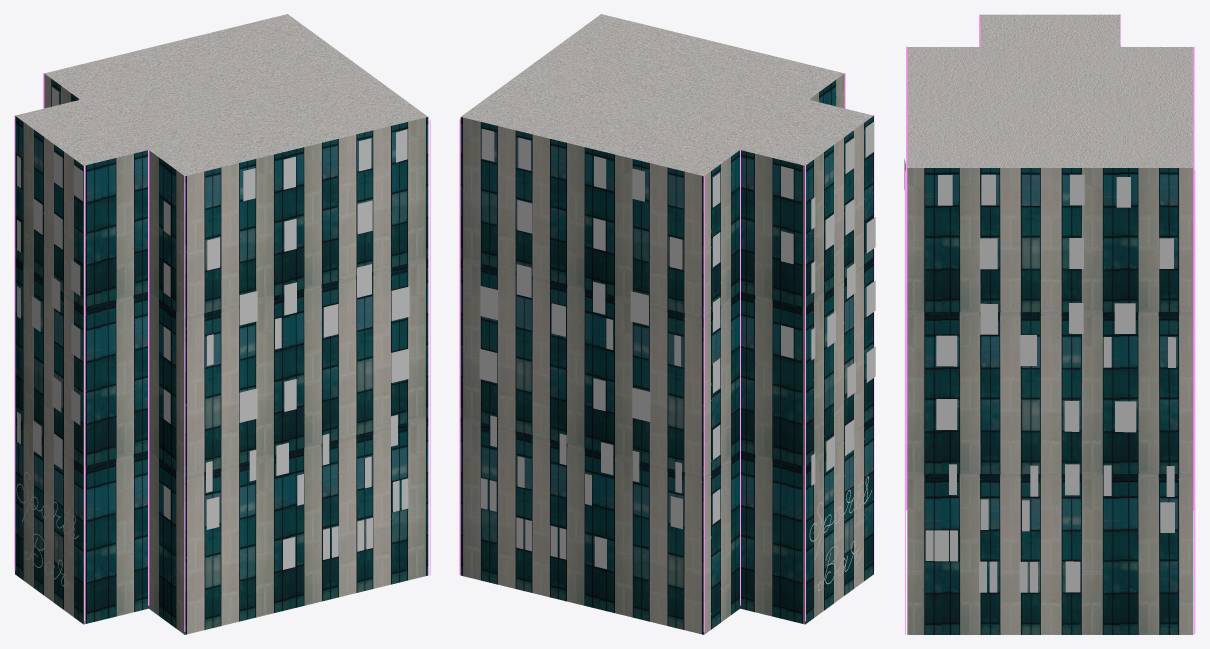
File: Building-4.fbx
3 views of the same model, side by side, from view 1: azimuth 30°, elevation 25°; view 2: azimuth 150°, elevation 25°; view 3: azimuth 270°, elevation 25° (orthographic).
Parts seen in each view (by area): view 1: building_011.001, Cylinder.004, Cylinder.007, Cylinder.009, Cylinder.010, Text.003, Plane.115, Plane.118, Plane.124; view 2: building_011.001, Cylinder.011, Cylinder.012, Text.003, Plane.092, Plane.086, Plane.084; view 3: building_011.001, Cylinder.009, Cylinder.011, Plane.147, Plane.150, Plane.148, Plane.156, Cylinder.012, Plane.145, Plane.157, Plane.146, Plane.168 (+12 smaller).
Boxes of the visible parts, x1=… form: building_011.001: x1=15, y1=14, x2=428, y2=634; Cylinder.004: x1=148, y1=150, x2=149, y2=605; Cylinder.007: x1=14, y1=115, x2=15, y2=570; Cylinder.009: x1=184, y1=176, x2=185, y2=631; Cylinder.010: x1=429, y1=119, x2=430, y2=575; Text.003: x1=16, y1=472, x2=78, y2=586; Plane.115: x1=391, y1=286, x2=409, y2=320; Plane.118: x1=239, y1=388, x2=257, y2=422; Plane.124: x1=239, y1=291, x2=257, y2=325; building_011.001: x1=460, y1=14, x2=873, y2=634; Cylinder.011: x1=459, y1=119, x2=460, y2=574; Cylinder.012: x1=703, y1=176, x2=704, y2=631; Text.003: x1=809, y1=476, x2=871, y2=590; Plane.092: x1=630, y1=291, x2=648, y2=325; Plane.086: x1=632, y1=387, x2=650, y2=421; Plane.084: x1=479, y1=349, x2=497, y2=382; building_011.001: x1=907, y1=14, x2=1193, y2=634; Cylinder.009: x1=906, y1=46, x2=907, y2=510; Cylinder.011: x1=1194, y1=170, x2=1195, y2=633; Plane.147: x1=936, y1=335, x2=957, y2=366; Plane.150: x1=1115, y1=401, x2=1136, y2=432; Plane.148: x1=936, y1=399, x2=957, y2=429; Plane.156: x1=1114, y1=303, x2=1135, y2=333; Cylinder.012: x1=1193, y1=46, x2=1194, y2=510; Plane.145: x1=980, y1=238, x2=997, y2=269; Plane.157: x1=980, y1=303, x2=997, y2=334; Plane.146: x1=1020, y1=335, x2=1036, y2=365; Plane.168: x1=1065, y1=561, x2=1080, y2=592.
Bounding box in the file's own units: 1290 × 1801 × 1017.
7 materials, 2 textured.
